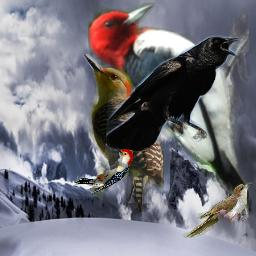Crow: (106, 35, 239, 151)
Cuckoo: (182, 182, 253, 238)
Woodpecker: (88, 2, 249, 218), (83, 54, 164, 212), (74, 147, 133, 195)
